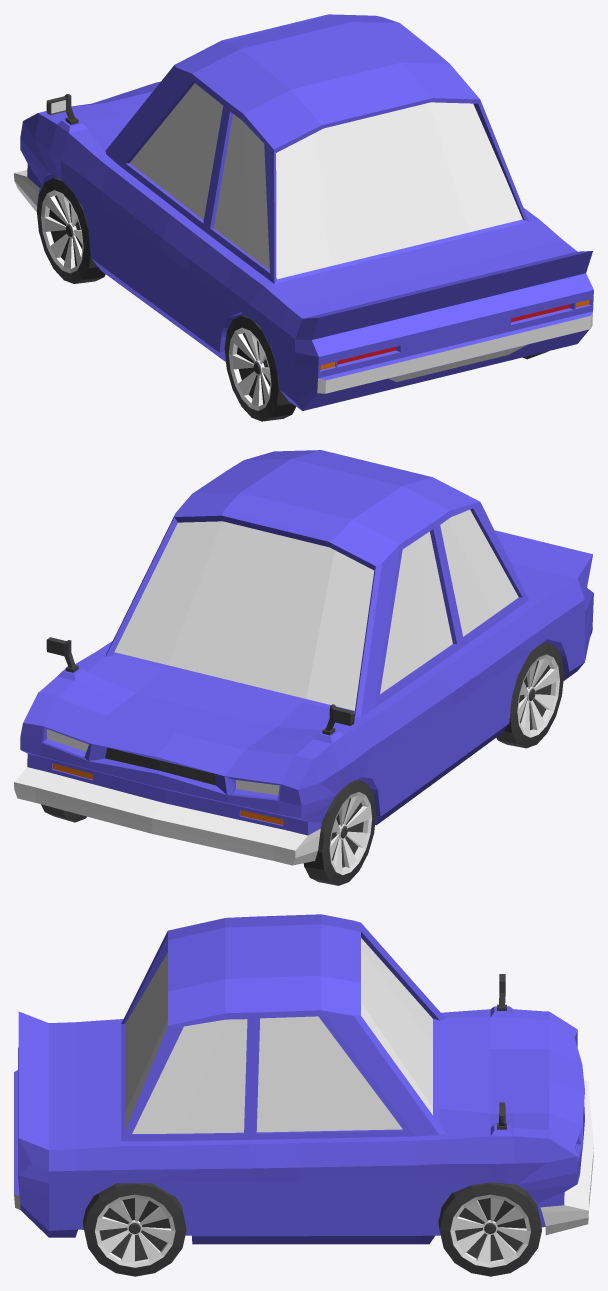
The model's file is BlueCar_Vehicle.glb.
3 renders of one model, top to bottom at view 1: azimuth 30°, elevation 25°; view 2: azimuth 150°, elevation 25°; view 3: azimuth 270°, elevation 25°, orthographic. The views are drawn at different scales.
Parts seen in each view (by area): view 1: Cube; view 2: Cube; view 3: Cube.
Part boxes in pixels (<box>): Cube: <box>14,14,593,421</box>; Cube: <box>14,450,593,885</box>; Cube: <box>14,914,593,1276</box>.
Size of the model in its own units: 2.4 by 2.08 by 4.16.
